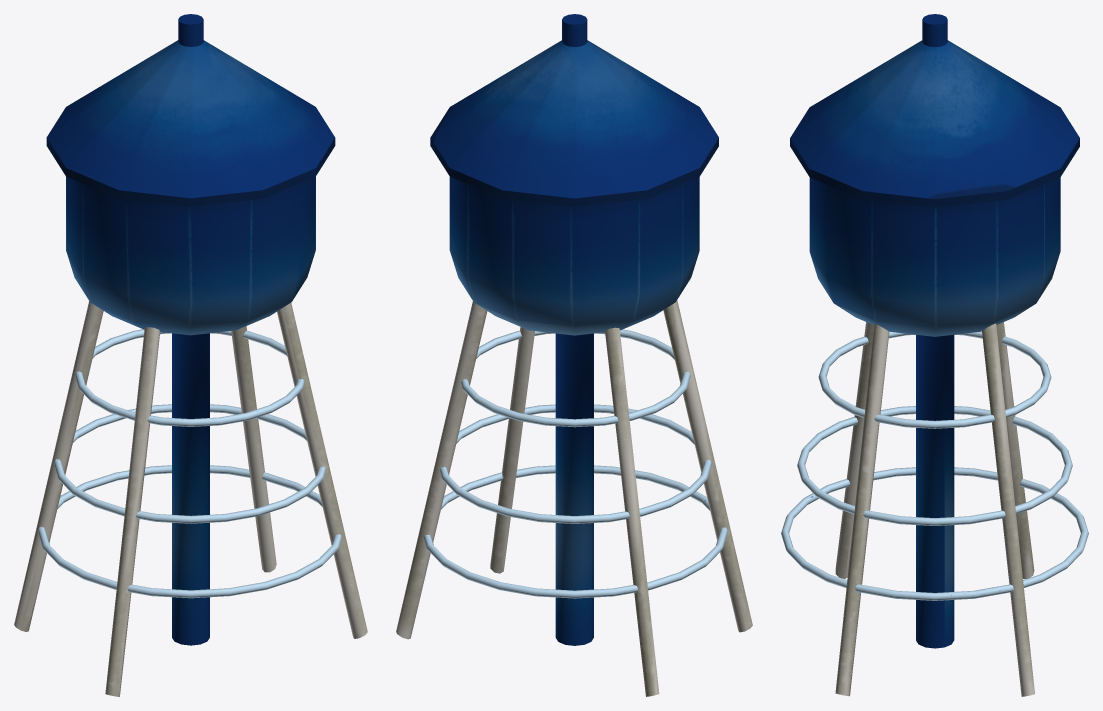
Rendered from tanqueagua.fbx.
3 renders of one model, left to right at view 1: azimuth 30°, elevation 25°; view 2: azimuth 150°, elevation 25°; view 3: azimuth 270°, elevation 25°, orthographic.
Size of the model in its own units: 251 by 558 by 251.
